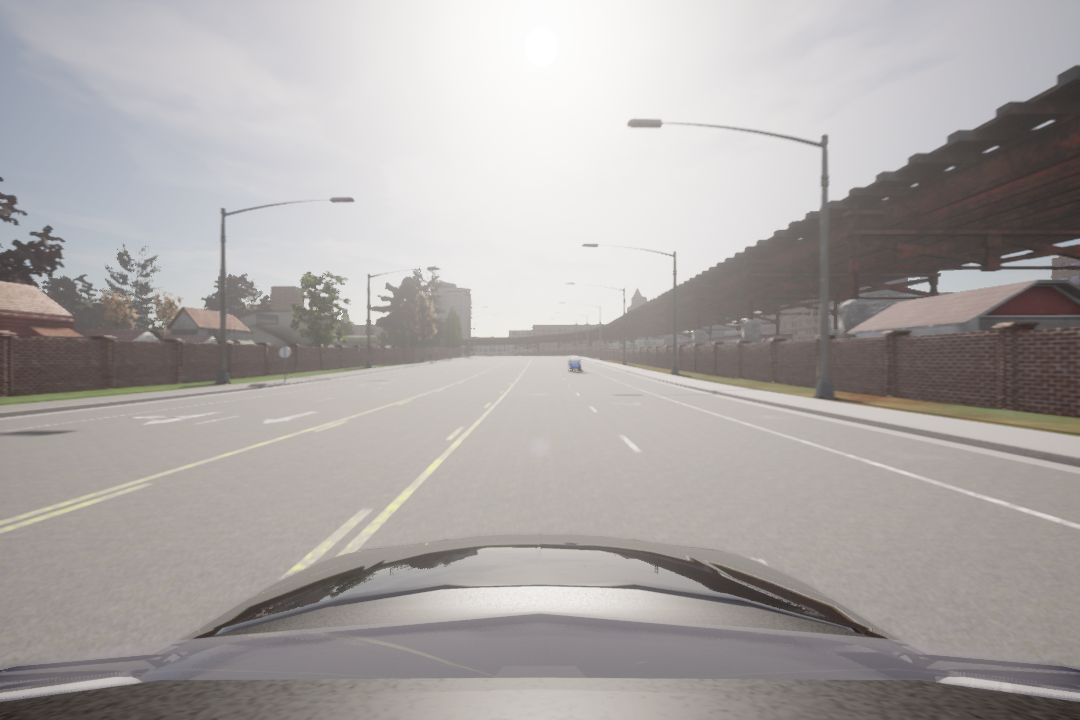RoadSign_forward: (259, 409, 319, 424)
RoadSign_forward_right: (131, 407, 223, 426)
